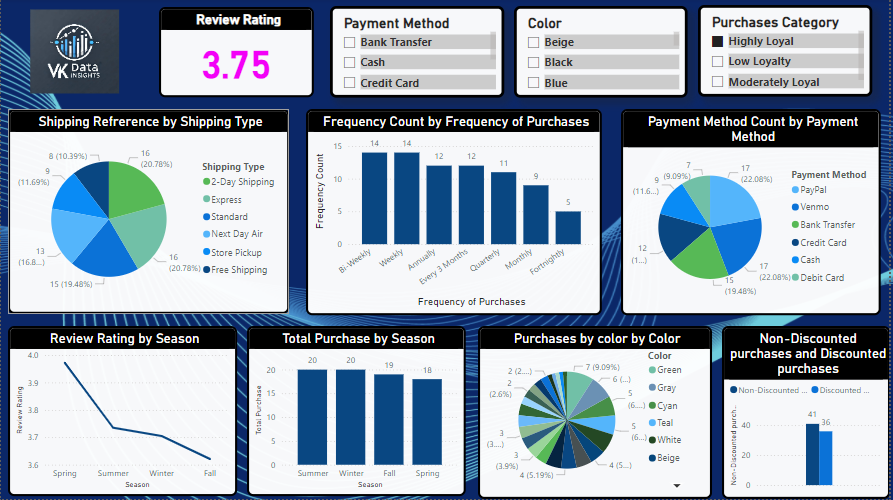

The page's visual inventory and layout, read from the dashboard file:
{"tool":"powerbi","page":{"name":"Dashboard","canvas":[1280,720],"ordinal":0},"visuals":[{"type":"lineChart","fields":{"Category":["shopping_trends.Season"],"Y":["DaxMesure.Review Rating"]},"box":[10.1,470.9,329.8,244.8],"z":0},{"type":"columnChart","fields":{"Y":["DaxMesure.Total Purchase"],"Category":["shopping_trends.Season"]},"box":[354.2,470.9,315.4,244.8],"z":1000},{"type":"pieChart","fields":{"Category":["shopping_trends.Color"],"Y":["DaxMesure.Purchases by color"]},"box":[686.9,470.9,337,249.1],"z":2000},{"type":"clusteredColumnChart","fields":{"Y":["DaxMesure.Non-Discounted purchases","DaxMesure.Discounted purchases"]},"box":[1038.2,470.9,241.9,249.1],"z":3000},{"type":"pieChart","fields":{"Y":["DaxMesure.Payment Method Count"],"Category":["shopping_trends.Payment Method"]},"box":[892.8,158.4,374.4,296.6],"z":5000},{"type":"columnChart","fields":{"Y":["DaxMesure.Frequency Count"],"Category":["shopping_trends.Frequency of Purchases"]},"box":[439.2,158.4,426.2,296.6],"z":6000},{"type":"pieChart","fields":{"Y":["DaxMesure.Shipping Refrerence"],"Category":["shopping_trends.Shipping Type"]},"box":[10.1,158.4,404.6,295.2],"z":7000},{"type":"slicer","fields":{"Values":["shopping_trends.Payment Method"]},"box":[473.8,9.7,250.6,132.5],"z":8000},{"type":"slicer","fields":{"Values":["shopping_trends.Color"]},"box":[738.9,10.7,250.3,132.3],"z":10000},{"type":"slicer","fields":{"Values":["shopping_trends.Purchases Category"]},"box":[1003.7,8.6,250.6,132.5],"z":10001},{"type":"image","box":[10.1,10.1,193,131],"z":10002},{"type":"card","title":"Review Rating","fields":{"Values":["DaxMesure.Review Rating"]},"box":[227.5,11.5,223.2,129.6],"z":10003}]}

Visuals, with their boxes in screenshot pixels (x1, y1, x2, y2), scaled from the page's 1280x720 canvas onto the 893x500 screenshot:
lineChart - shopping_trends.Season x DaxMesure.Review Rating: BBox(7, 327, 237, 497)
columnChart - DaxMesure.Total Purchase x shopping_trends.Season: BBox(247, 327, 467, 497)
pieChart - shopping_trends.Color x DaxMesure.Purchases by color: BBox(479, 327, 714, 499)
clusteredColumnChart - DaxMesure.Non-Discounted purchases x DaxMesure.Discounted purchases: BBox(724, 327, 892, 499)
pieChart - DaxMesure.Payment Method Count x shopping_trends.Payment Method: BBox(623, 110, 884, 316)
columnChart - DaxMesure.Frequency Count x shopping_trends.Frequency of Purchases: BBox(306, 110, 604, 316)
pieChart - DaxMesure.Shipping Refrerence x shopping_trends.Shipping Type: BBox(7, 110, 289, 315)
slicer - shopping_trends.Payment Method: BBox(331, 7, 505, 99)
slicer - shopping_trends.Color: BBox(515, 7, 690, 99)
slicer - shopping_trends.Purchases Category: BBox(700, 6, 875, 98)
image: BBox(7, 7, 142, 98)
"Review Rating" card: BBox(159, 8, 314, 98)
